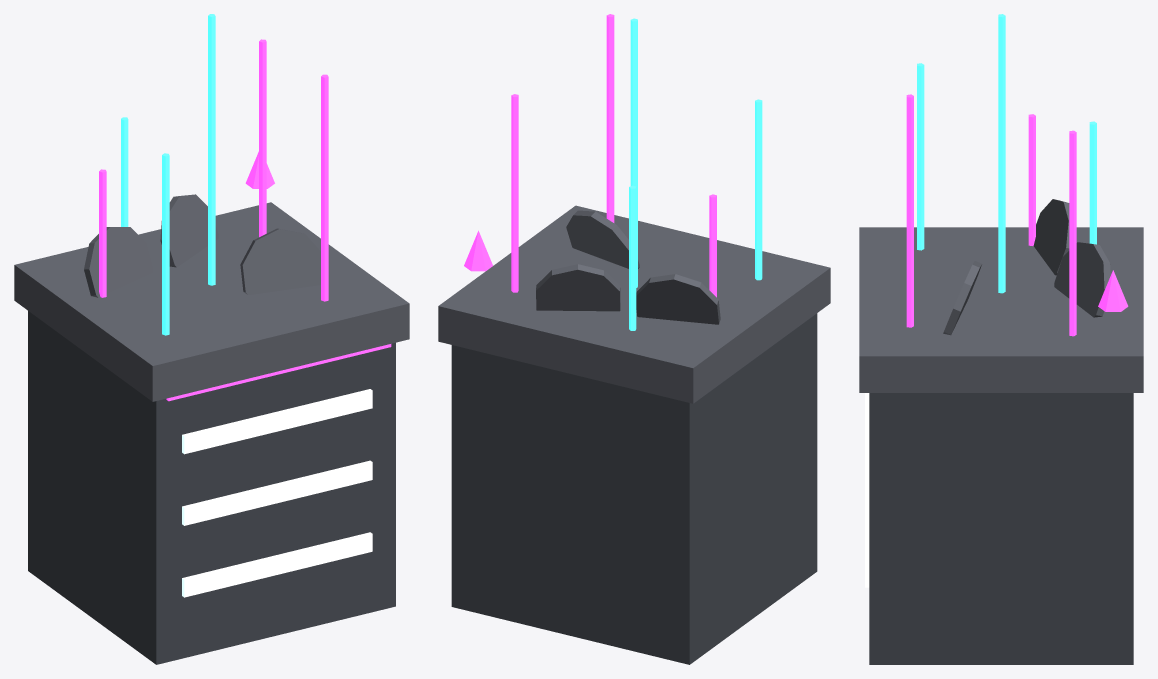
File: antenna_farm.glb
3 views of the same model, side by side, from view 1: azimuth 30°, elevation 25°; view 2: azimuth 150°, elevation 25°; view 3: azimuth 270°, elevation 25° (orthographic). The views are drawn at different scales.
Parts seen in each view (by area): view 1: antenna_farm; view 2: antenna_farm; view 3: antenna_farm.
Part boxes in pixels (left/top/right/bottom): antenna_farm: left=14, top=14, right=409, bottom=664; antenna_farm: left=438, top=14, right=830, bottom=664; antenna_farm: left=859, top=14, right=1143, bottom=664.
Bounding box in the file's own units: 3 × 6.4 × 2.8.
